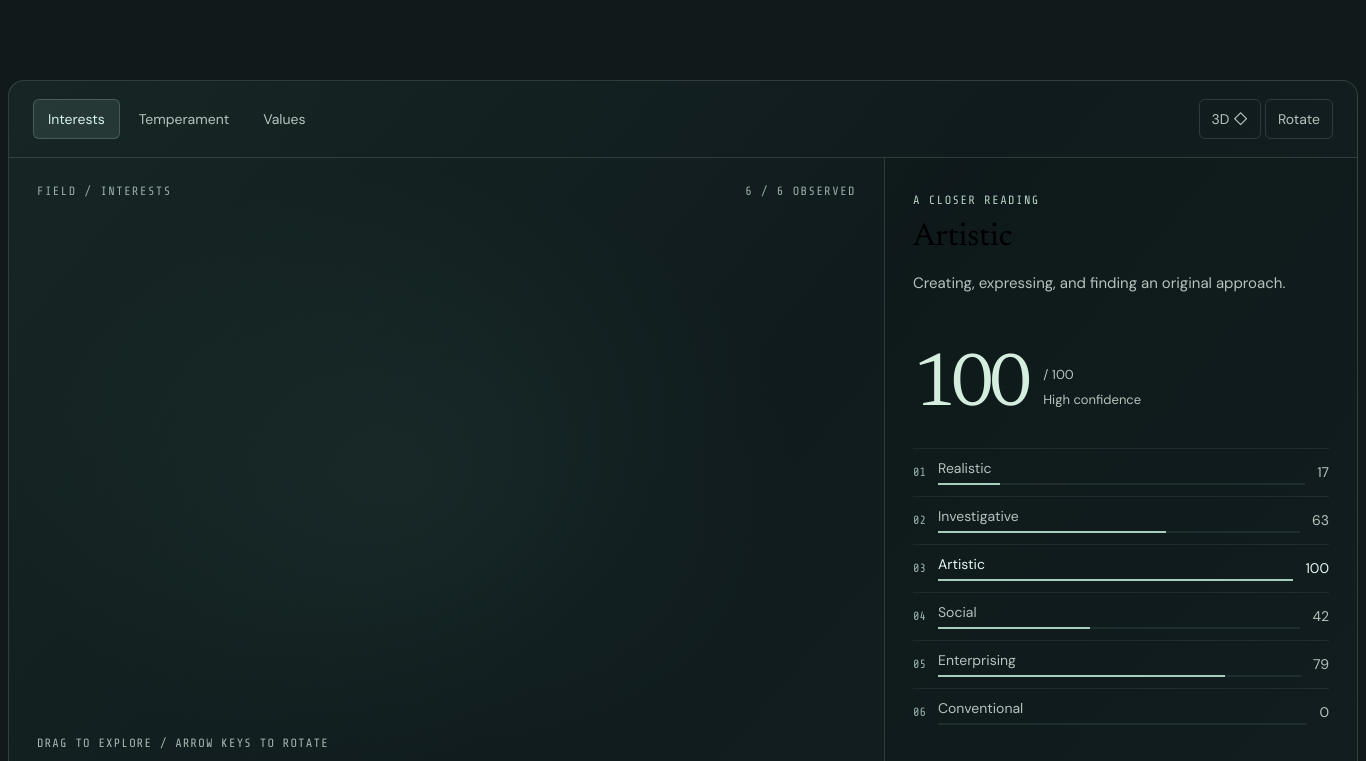
it: atlas interaction and sample isolation › draws finite 3D coordinates and responds to keyboard rotation
Press ArrowRight in the picture named "Rotatable 3D profile", box [9,236,884,696]
Click the button named "Switch to flat view". click: (1230, 119)
box: [1199,99,1261,139]
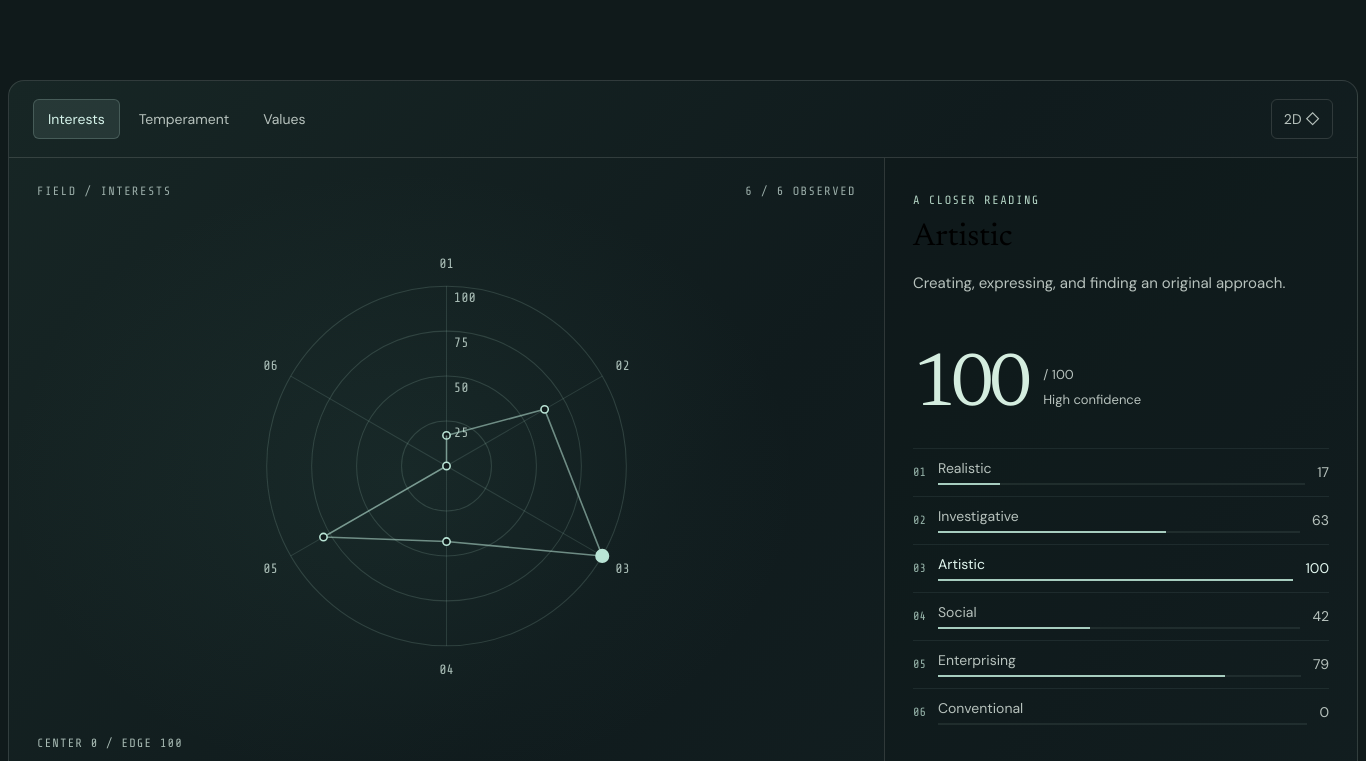
Check: the picture named "Flat profile" is shown, box [9,236,884,696]
